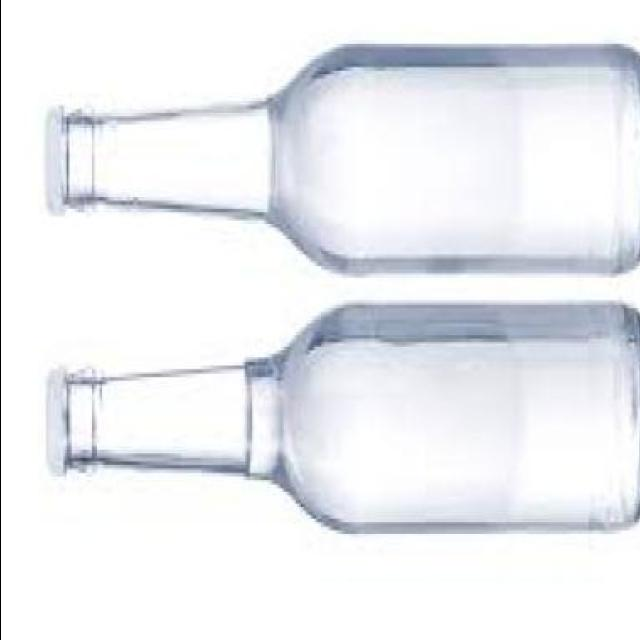kaca: (65, 304, 640, 541), (58, 47, 640, 281)
